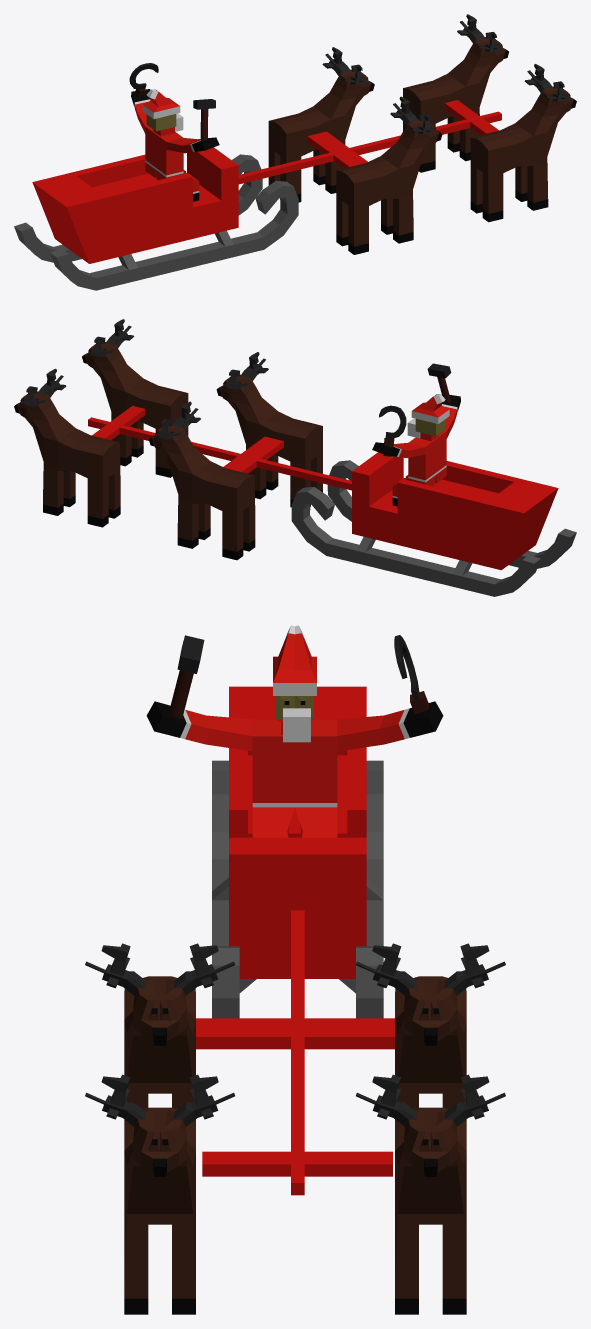
The model's file is sled.obj.
3 views of the same model, one above another, from view 1: azimuth 30°, elevation 25°; view 2: azimuth 150°, elevation 25°; view 3: azimuth 270°, elevation 25° (orthographic). The views are drawn at different scales.
Parts seen in each view (by area): view 1: Cube.002, Cube, Cube.003, Cube.001, Hammer_Cube.004, Sickle_Cube.005; view 2: Cube.002, Cube, Cube.003, Cube.001, Sickle_Cube.005, Hammer_Cube.004; view 3: Cube.002, Cube, Cube.003, Cube.001, Hammer_Cube.004, Sickle_Cube.005, Cube.004_Cube.006.
Part boxes in pixels (x1=…): Cube.002: x1=268, y1=14, x2=576, y2=254; Cube: x1=14, y1=147, x2=298, y2=290; Cube.003: x1=131, y1=89, x2=219, y2=201; Cube.001: x1=238, y1=100, x2=501, y2=184; Hammer_Cube.004: x1=193, y1=99, x2=215, y2=141; Sickle_Cube.005: x1=129, y1=63, x2=158, y2=98; Cube.002: x1=14, y1=319, x2=322, y2=560; Cube: x1=291, y1=452, x2=576, y2=596; Cube.003: x1=372, y1=394, x2=460, y2=506; Cube.001: x1=88, y1=406, x2=351, y2=490; Sickle_Cube.005: x1=379, y1=405, x2=406, y2=456; Hammer_Cube.004: x1=427, y1=363, x2=451, y2=403; Cube.002: x1=85, y1=943, x2=505, y2=1314; Cube: x1=212, y1=686, x2=383, y2=1018; Cube.003: x1=146, y1=625, x2=443, y2=837; Cube.001: x1=196, y1=910, x2=394, y2=1195; Hammer_Cube.004: x1=169, y1=635, x2=204, y2=718; Sickle_Cube.005: x1=394, y1=635, x2=428, y2=714; Cube.004_Cube.006: x1=283, y1=708, x2=310, y2=742.
Size of the model in its own units: 16.97 by 5.66 by 6.12.
